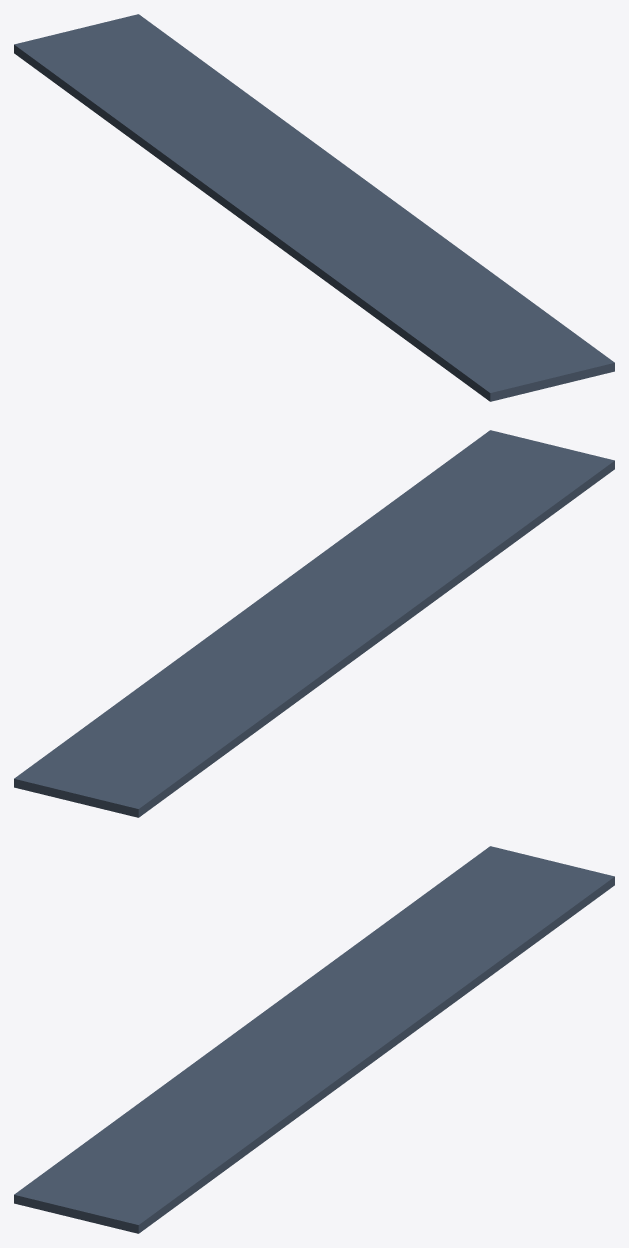
File: floor_029_u_control_vostochnyy_uzel_dostupa_floor.obj
The picture shows the model from 3 angles, top to bottom: view 1: azimuth 30°, elevation 25°; view 2: azimuth 150°, elevation 25°; view 3: azimuth 330°, elevation 25°; orthographic projection.
Parts seen in each view (by area): view 1: Floor_029_u_control_vostochnyy_uzel_dostupa_floor; view 2: Floor_029_u_control_vostochnyy_uzel_dostupa_floor; view 3: Floor_029_u_control_vostochnyy_uzel_dostupa_floor.
Part boxes in pixels (bbox=[...]): Floor_029_u_control_vostochnyy_uzel_dostupa_floor: bbox=[14, 14, 614, 401]; Floor_029_u_control_vostochnyy_uzel_dostupa_floor: bbox=[14, 430, 614, 817]; Floor_029_u_control_vostochnyy_uzel_dostupa_floor: bbox=[14, 846, 614, 1233].
Size of the model in its own units: 2.97 by 0.2 by 19.69.
